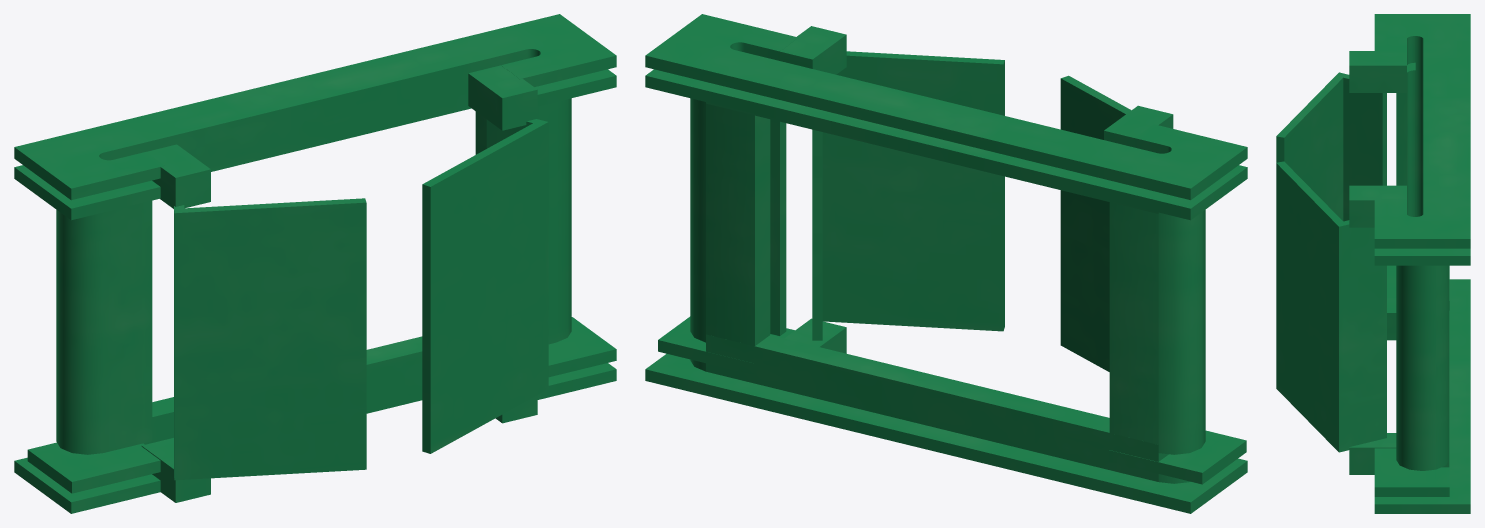
Rendered from 制胶架.glb.
The picture shows the model from 3 angles, left to right: view 1: azimuth 30°, elevation 25°; view 2: azimuth 150°, elevation 25°; view 3: azimuth 270°, elevation 25°; orthographic projection. The views are drawn at different scales.
Parts seen in each view (by area): view 1: Box095, Line005, Line006, Box097, Box101, Box099, Box103, Box100; view 2: Box095, Line006, Line005, Box097, Box101, Box103, Box099, Box102; view 3: Box095, Line006, Line005, Box103, Box099, Box101, Box102, Box100, Box097.
Part boxes in pixels (left/top/right/bottom): Box095: left=14, top=14, right=616, bottom=513; Line005: left=174, top=198, right=366, bottom=480; Line006: left=422, top=119, right=548, bottom=453; Box097: left=27, top=442, right=160, bottom=493; Box101: left=468, top=65, right=537, bottom=130; Box099: left=146, top=144, right=210, bottom=208; Box103: left=548, top=317, right=616, bottom=377; Box100: left=141, top=438, right=210, bottom=502; Box095: left=645, top=14, right=1247, bottom=513; Line006: left=812, top=51, right=1004, bottom=340; Line005: left=1060, top=75, right=1131, bottom=371; Box097: left=1109, top=430, right=1246, bottom=484; Box101: left=780, top=26, right=846, bottom=74; Box103: left=658, top=316, right=794, bottom=374; Box099: left=1104, top=105, right=1173, bottom=147; Box102: left=784, top=318, right=846, bottom=353; Box095: left=1374, top=14, right=1470, bottom=513; Line006: left=1276, top=161, right=1386, bottom=452; Line005: left=1276, top=72, right=1386, bottom=221; Box103: left=1374, top=447, right=1449, bottom=496; Box099: left=1349, top=51, right=1406, bottom=92; Box101: left=1349, top=185, right=1406, bottom=227; Box102: left=1349, top=433, right=1396, bottom=474; Box100: left=1387, top=298, right=1396, bottom=340; Box097: left=1387, top=265, right=1449, bottom=310.
Bounding box in the file's own units: 0.0122 × 0.00698 × 0.00448.
Materials: 1 (1 with a texture image).
